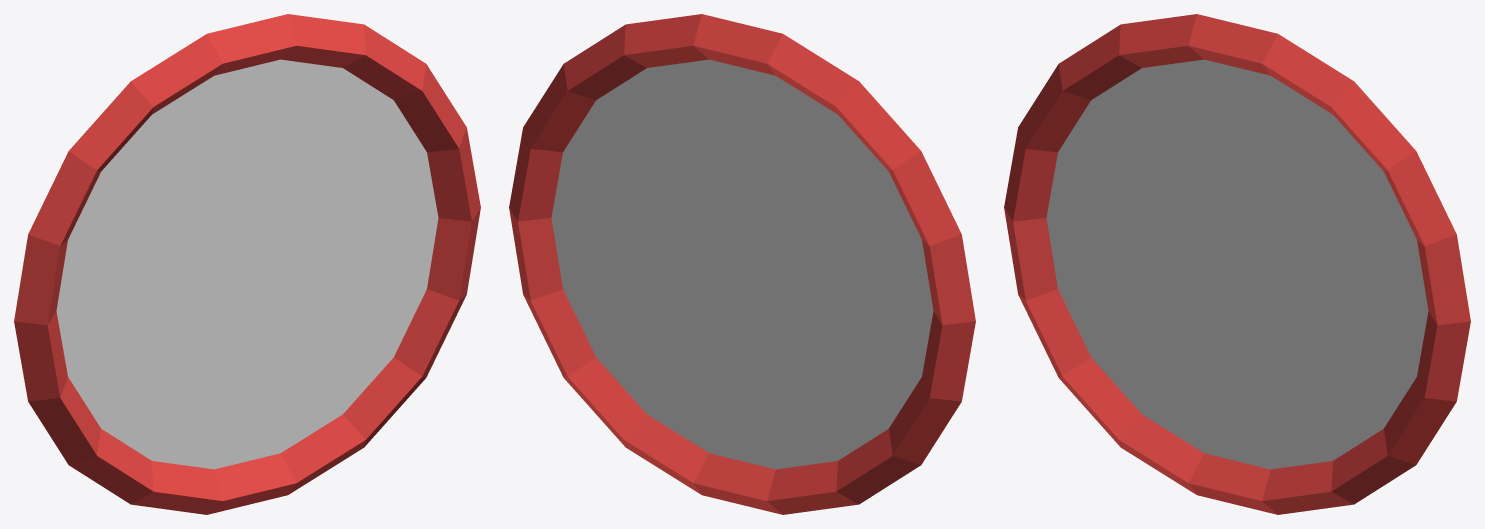
The model's file is WantedTokenRed.glb.
The picture shows the model from 3 angles, left to right: view 1: azimuth 30°, elevation 25°; view 2: azimuth 150°, elevation 25°; view 3: azimuth 330°, elevation 25°; orthographic projection.
Visible parts, largest first — view 1: Torus.001, Torus; view 2: Torus.001, Torus; view 3: Torus.001, Torus.
Part boxes in pixels (x1,y1,x2,y2): Torus.001: (56, 59, 438, 469); Torus: (14, 14, 480, 514); Torus.001: (551, 59, 933, 469); Torus: (509, 14, 975, 514); Torus.001: (1046, 59, 1428, 469); Torus: (1004, 14, 1470, 514).
Size of the model in its own units: 2.2 by 2.17 by 0.2.
